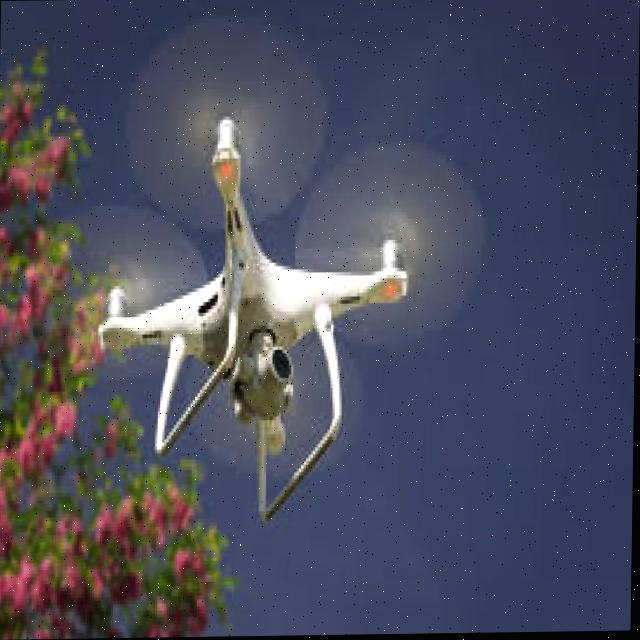drone: (56, 28, 482, 534)
